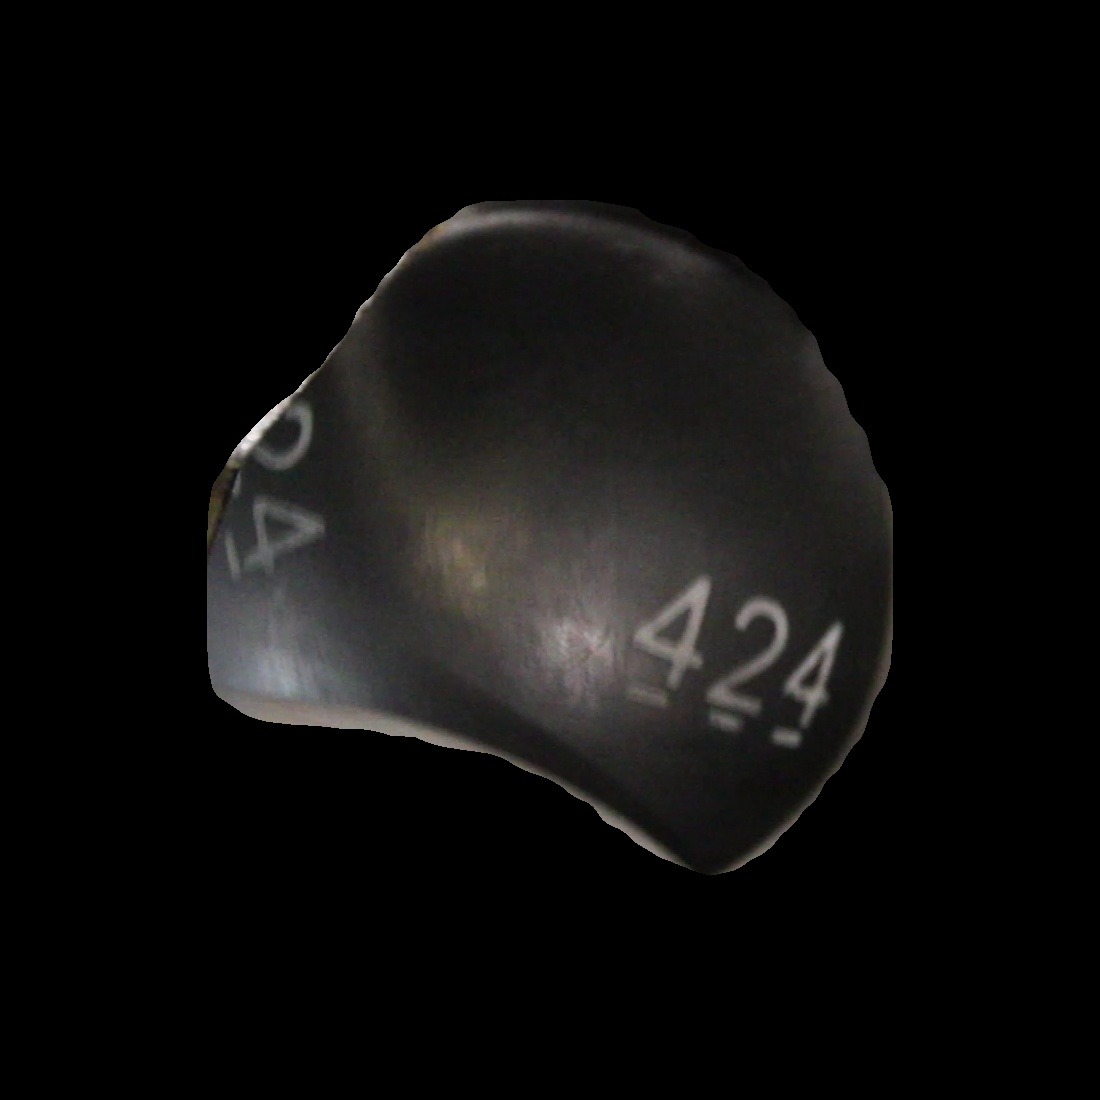digits: (626, 571, 846, 757)
